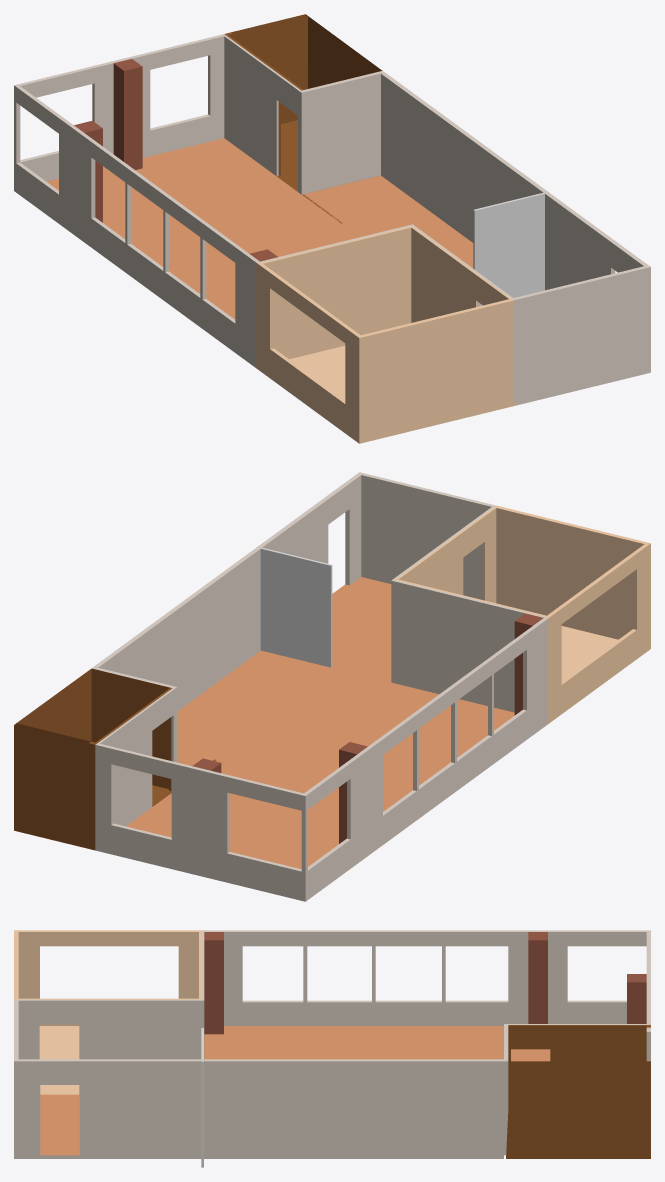
Rendered from OfficeWalls 1.fbx.
3 views of the same model, one above another, from view 1: azimuth 30°, elevation 25°; view 2: azimuth 150°, elevation 25°; view 3: azimuth 270°, elevation 25° (orthographic). The views are drawn at different scales.
Parts seen in each view (by area): view 1: Cube, Cube.001, Cube.004, Cube.002, Cube.006, Cube.003, Cube.007, Cube.008; view 2: Cube, Cube.004, Cube.001, Cube.002, Cube.006, Cube.007, Cube.003; view 3: Cube, Cube.002, Cube.004, Cube.001, Cube.003, Cube.007, Cube.008, Cube.006.
Part boxes in pixels (left/top/right/bottom): Cube: left=14, top=34, right=650, bottom=405; Cube.001: left=256, top=226, right=513, bottom=439; Cube.004: left=46, top=138, right=473, bottom=319; Cube.002: left=224, top=14, right=382, bottom=175; Cube.006: left=473, top=192, right=549, bottom=305; Cube.003: left=74, top=59, right=277, bottom=261; Cube.007: left=256, top=346, right=515, bottom=443; Cube.008: left=279, top=120, right=372, bottom=191; Cube: left=92, top=472, right=548, bottom=901; Cube.004: left=126, top=577, right=514, bottom=869; Cube.001: left=395, top=505, right=650, bottom=720; Cube.002: left=14, top=668, right=172, bottom=846; Cube.006: left=256, top=547, right=332, bottom=667; Cube.007: left=548, top=626, right=650, bottom=723; Cube.003: left=192, top=613, right=543, bottom=843; Cube: left=14, top=930, right=650, bottom=1158; Cube.002: left=506, top=1025, right=650, bottom=1155; Cube.004: left=40, top=1026, right=550, bottom=1155; Cube.001: left=14, top=930, right=204, bottom=1025; Cube.003: left=204, top=932, right=646, bottom=1034; Cube.007: left=39, top=1026, right=79, bottom=1094; Cube.008: left=506, top=1155, right=650, bottom=1158; Cube.006: left=201, top=1028, right=203, bottom=1167.
Size of the model in its own units: 2481 by 935 by 5086.
